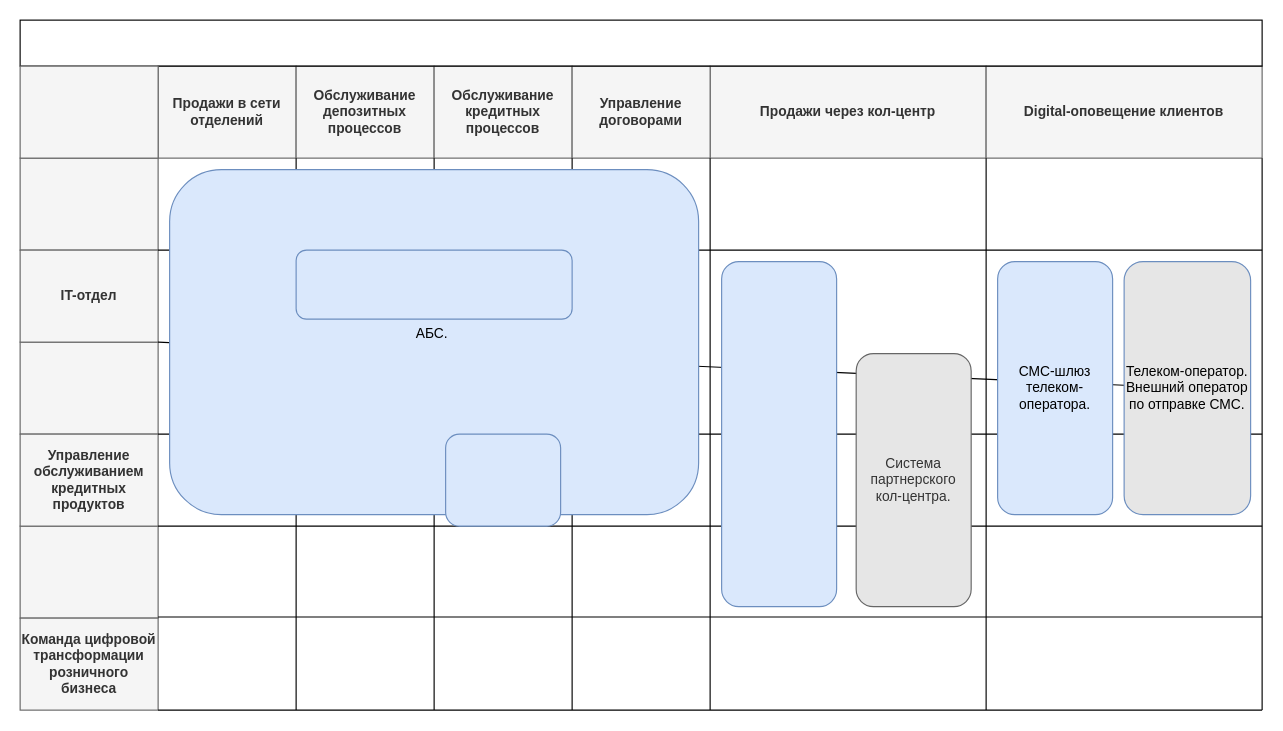
The diagram is 1283 pixels wide and 731 high, and some of its shapes have lost their labels. The shapes that lost their labels are listed below. From the top down, each one's centre as x and y in pixels, then its label:
the point at 640,42: Карту текущего IT-ландшафта.
the point at 88,203: Управление обслуживанием в сети отделений
the point at 433,284: Сайт
the point at 88,387: Управление обслуживанием депозитных продуктов
the point at 778,433: Система кол-центра.
the point at 502,479: Интернет-банк.
the point at 88,571: Кол-центр
